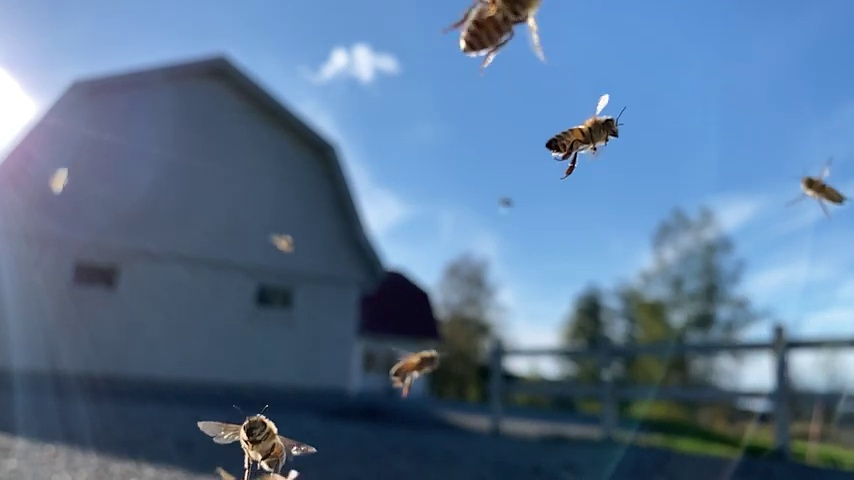insect: (195, 403, 320, 480), (444, 1, 547, 72), (542, 94, 623, 180), (786, 159, 848, 219), (386, 345, 444, 396)
